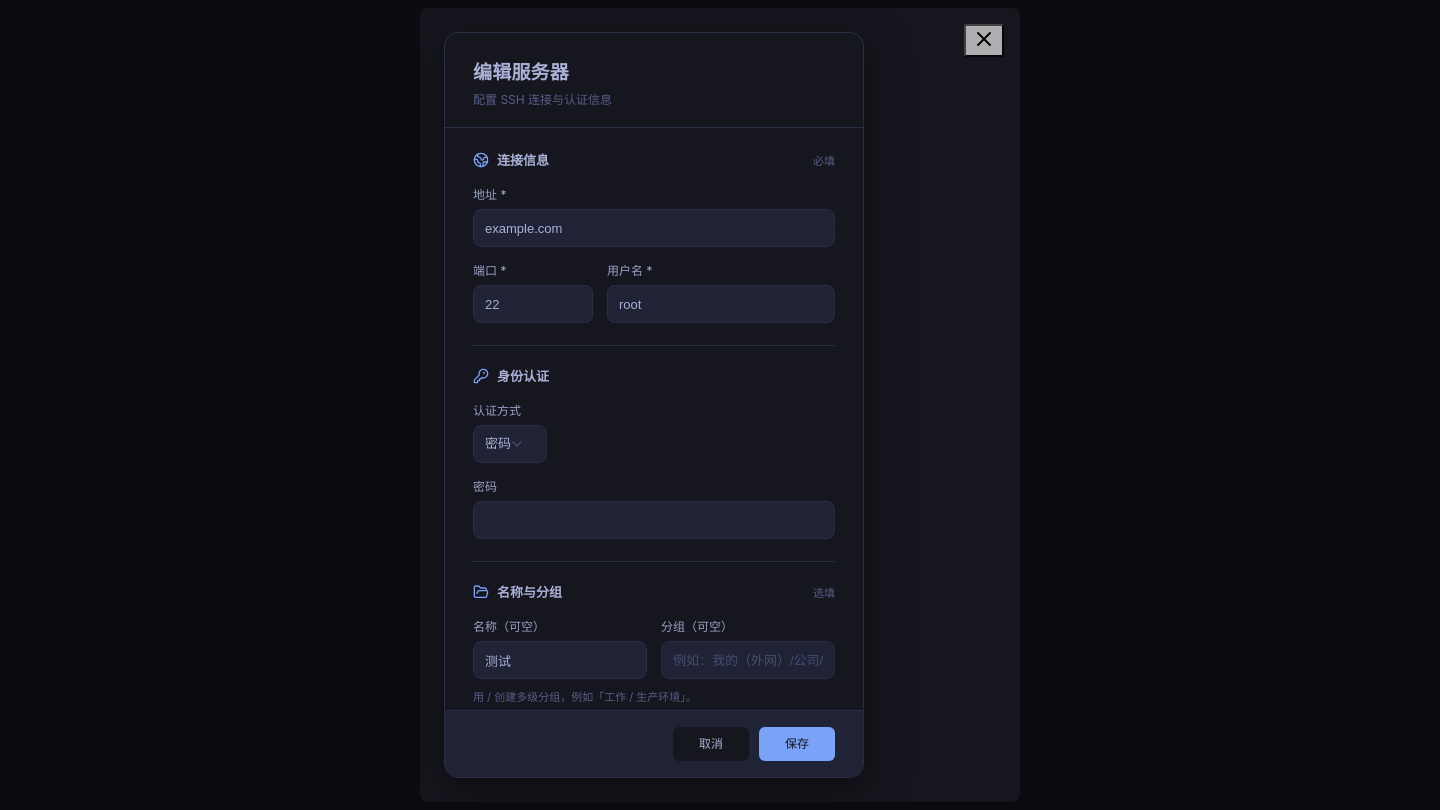
Test: server input › explains invalid port  and focuses it
This screenshot has width=1440, height=810.
Clear the field labelled "端口 *": (533, 304) [473, 285, 593, 323]
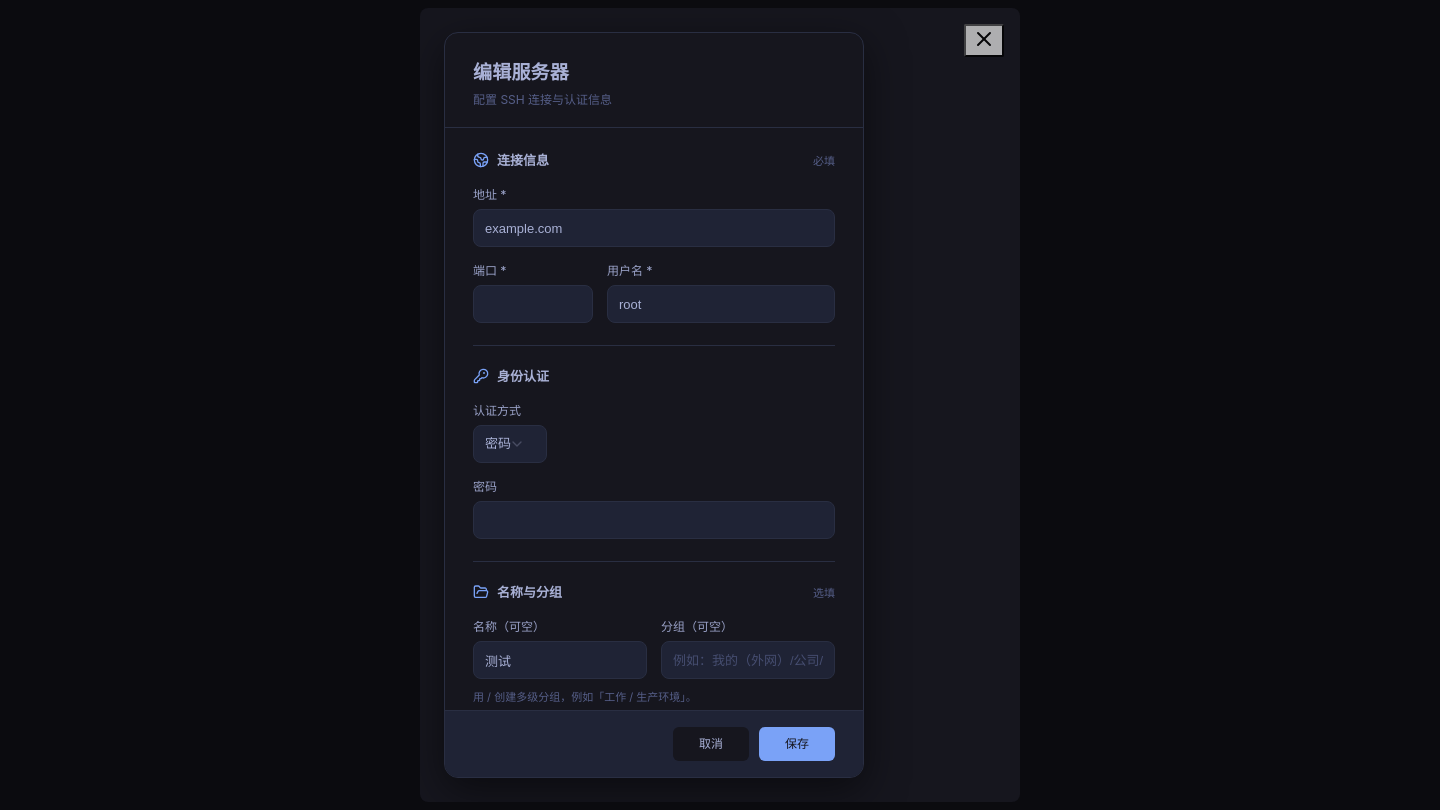
Submit the form, box [444, 32, 864, 778]
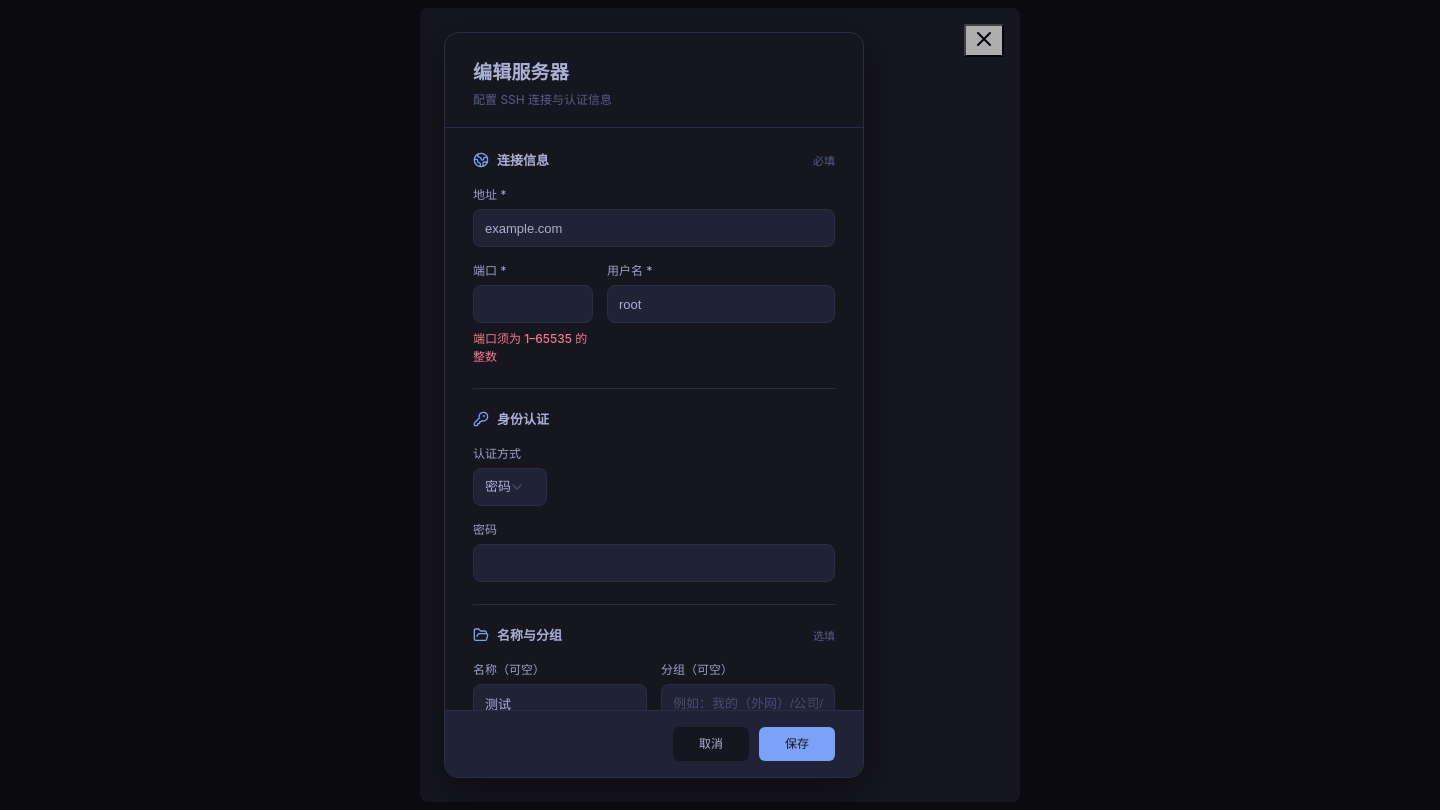
Expected: the text "端口须为 1–65535 的整数" is shown, [473, 330, 593, 366]
